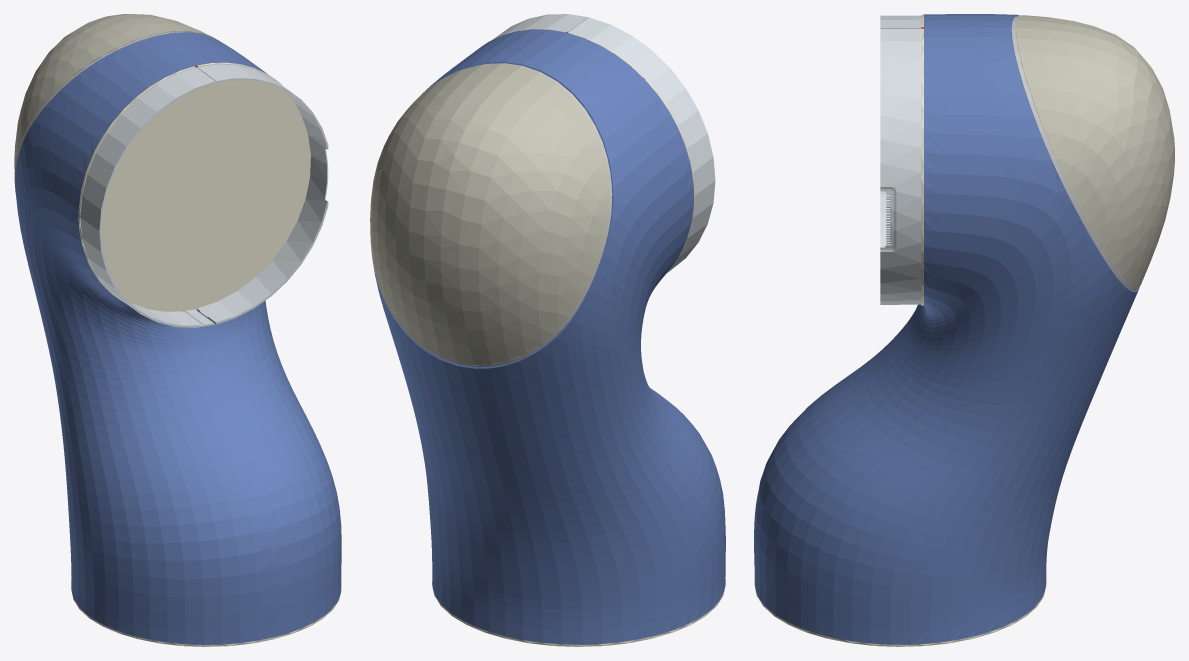
The model's file is right_arm3.dae.
3 views of the same model, side by side, from view 1: azimuth 30°, elevation 25°; view 2: azimuth 150°, elevation 25°; view 3: azimuth 270°, elevation 25° (orthographic). The views are drawn at different scales.
Parts seen in each view (by area): view 1: right-lwr-3-link12-34_iv__Geometry_0, right-lwr-3-link12-34_iv__Geometry_5, right-lwr-3-link12-34_iv__Geometry_3, right-lwr-3-link12-34_iv__Geometry_1, right-lwr-3-link12-34_iv__Geometry_2; view 2: right-lwr-3-link12-34_iv__Geometry_0, right-lwr-3-link12-34_iv__Geometry_1, right-lwr-3-link12-34_iv__Geometry_3, right-lwr-3-link12-34_iv__Geometry_5, right-lwr-3-link12-34_iv__Geometry_2; view 3: right-lwr-3-link12-34_iv__Geometry_0, right-lwr-3-link12-34_iv__Geometry_1, right-lwr-3-link12-34_iv__Geometry_3, right-lwr-3-link12-34_iv__Geometry_5, right-lwr-3-link12-34_iv__Geometry_2.
Part boxes in pixels (x1,y1,x2,y2): right-lwr-3-link12-34_iv__Geometry_0: (15, 32, 341, 644); right-lwr-3-link12-34_iv__Geometry_5: (72, 62, 339, 646); right-lwr-3-link12-34_iv__Geometry_3: (80, 64, 328, 327); right-lwr-3-link12-34_iv__Geometry_1: (14, 14, 210, 171); right-lwr-3-link12-34_iv__Geometry_2: (14, 30, 215, 182); right-lwr-3-link12-34_iv__Geometry_0: (372, 29, 725, 644); right-lwr-3-link12-34_iv__Geometry_1: (370, 63, 609, 365); right-lwr-3-link12-34_iv__Geometry_3: (492, 14, 715, 273); right-lwr-3-link12-34_iv__Geometry_5: (432, 28, 725, 646); right-lwr-3-link12-34_iv__Geometry_2: (400, 63, 612, 366); right-lwr-3-link12-34_iv__Geometry_0: (754, 14, 1139, 644); right-lwr-3-link12-34_iv__Geometry_1: (1016, 15, 1174, 287); right-lwr-3-link12-34_iv__Geometry_3: (880, 15, 921, 304); right-lwr-3-link12-34_iv__Geometry_5: (754, 14, 1046, 646); right-lwr-3-link12-34_iv__Geometry_2: (1011, 16, 1137, 290).
Bounding box in the file's own units: 0.1192 × 0.1718 × 0.2512.
